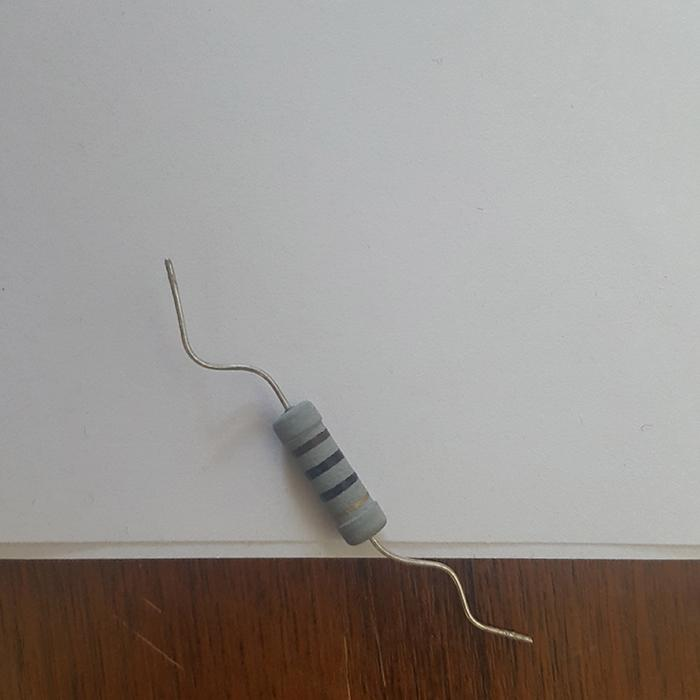resistor: (269, 397, 384, 543)
